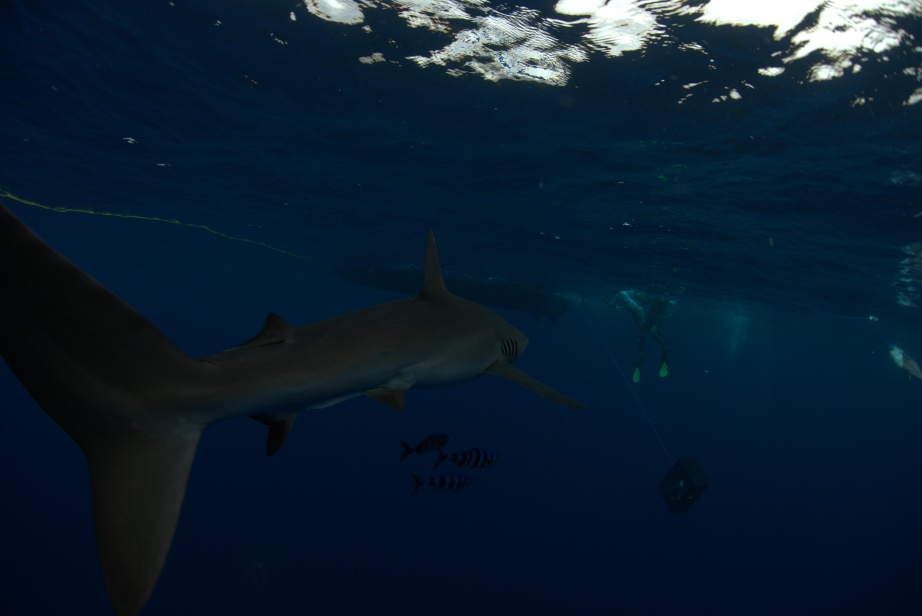Sedoso: (1, 186, 603, 612)
